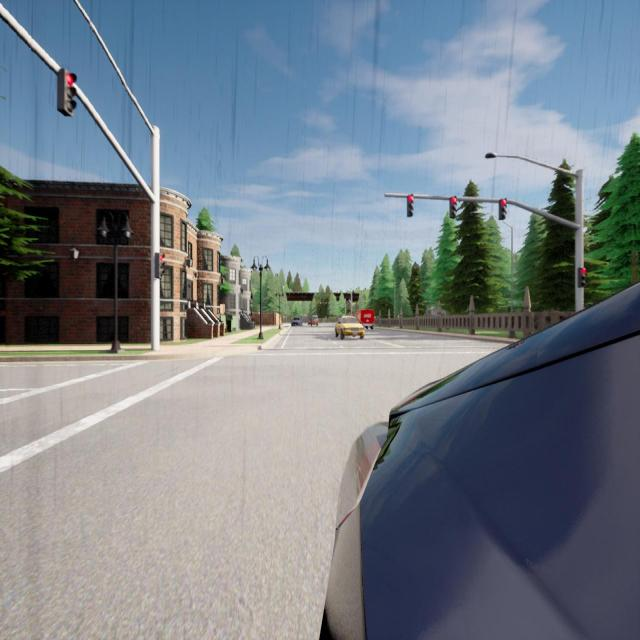Vehicle: (324, 283, 640, 638), (336, 316, 364, 339), (356, 310, 374, 329), (292, 317, 302, 326), (311, 316, 318, 326)
traffic_light: (57, 68, 77, 116), (155, 253, 166, 280), (407, 196, 413, 216), (579, 268, 586, 285), (500, 200, 506, 218), (451, 197, 456, 217)
